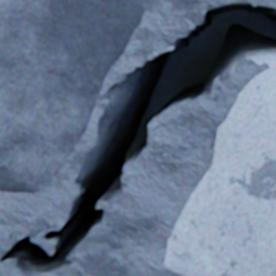brick: (0, 0, 144, 192), (164, 67, 275, 275)
crack: (0, 2, 275, 275)
